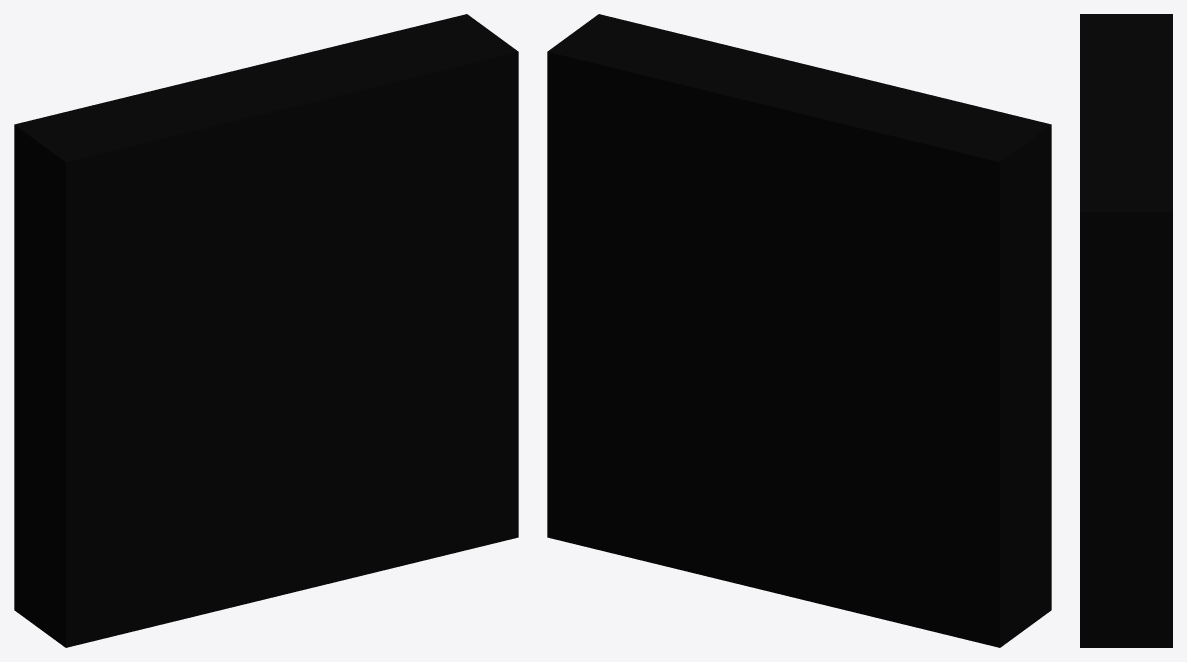
Rendered from Doorstop.glb.
3 views of the same model, side by side, from view 1: azimuth 30°, elevation 25°; view 2: azimuth 150°, elevation 25°; view 3: azimuth 270°, elevation 25° (orthographic). The views are drawn at different scales.
Parts seen in each view (by area): view 1: Doorstop; view 2: Doorstop; view 3: Doorstop.
Part boxes in pixels (left/top/right/bottom): Doorstop: left=14, top=14, right=518, bottom=647; Doorstop: left=547, top=14, right=1051, bottom=647; Doorstop: left=1080, top=14, right=1172, bottom=647.
Bounding box in the file's own units: 81 × 83 × 16.
1 material, 1 textured.
